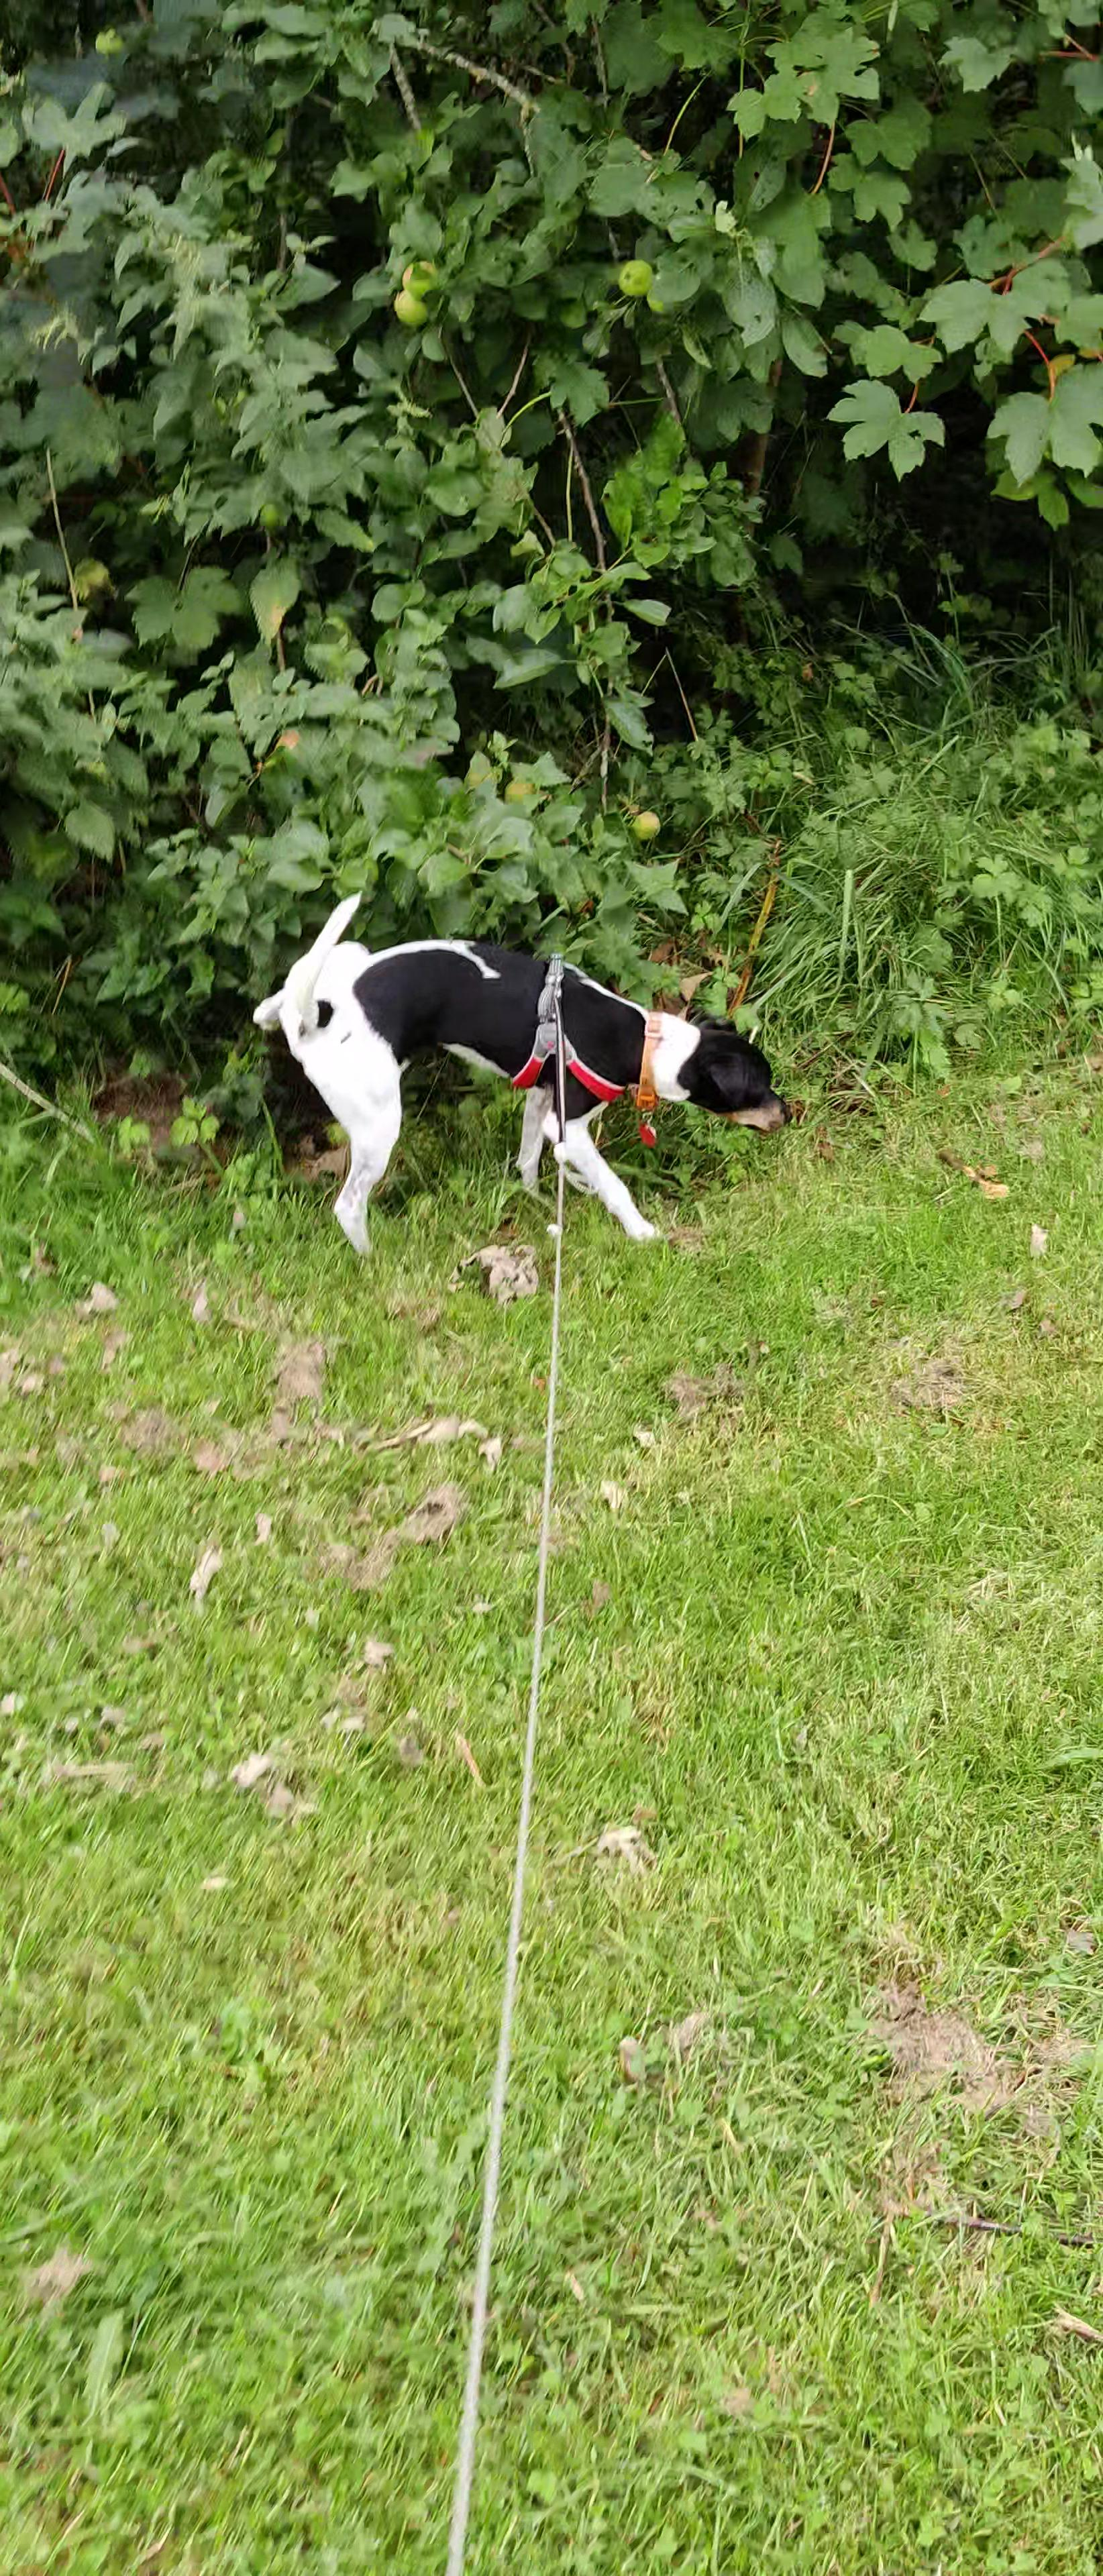Dog: (250, 885, 799, 1255)
